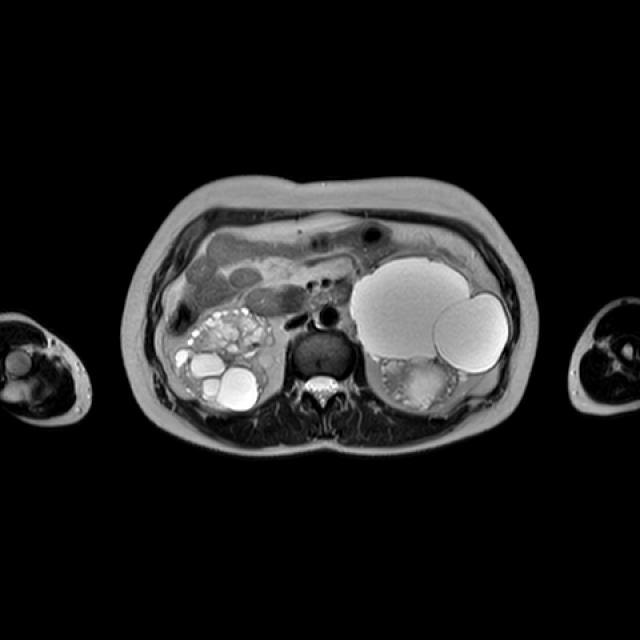sag: (174, 306, 276, 412)
sol: (351, 254, 510, 413)
